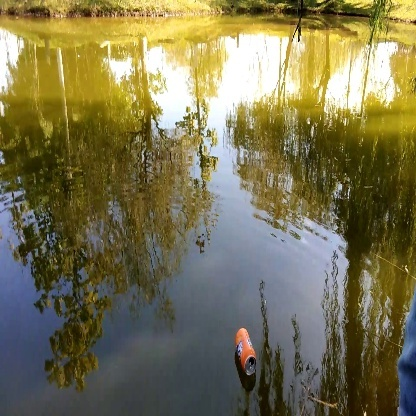bottle: (231, 324, 263, 380)
